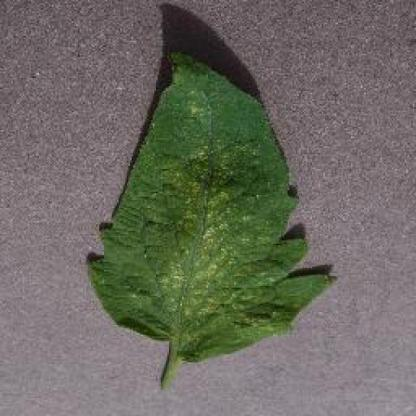Tomato_Spider_Mites: (87, 51, 337, 358)
